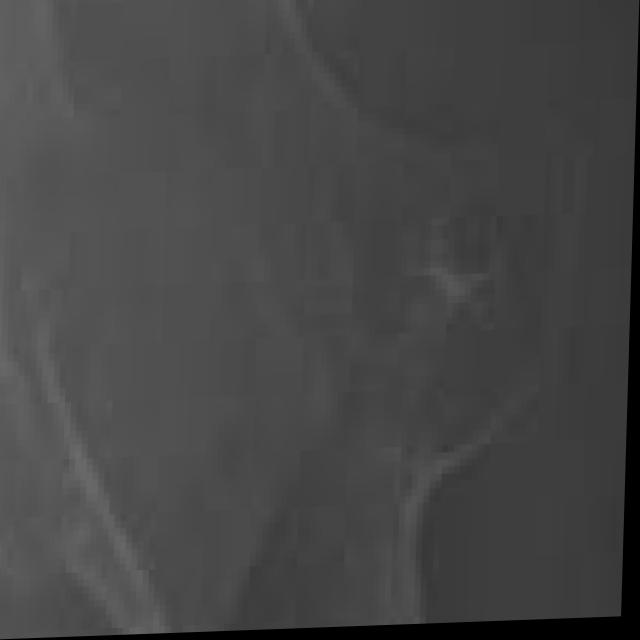fracture: (0, 0, 627, 639)
